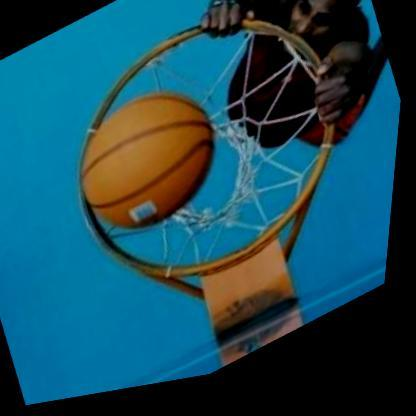basketball: (63, 71, 238, 256)
